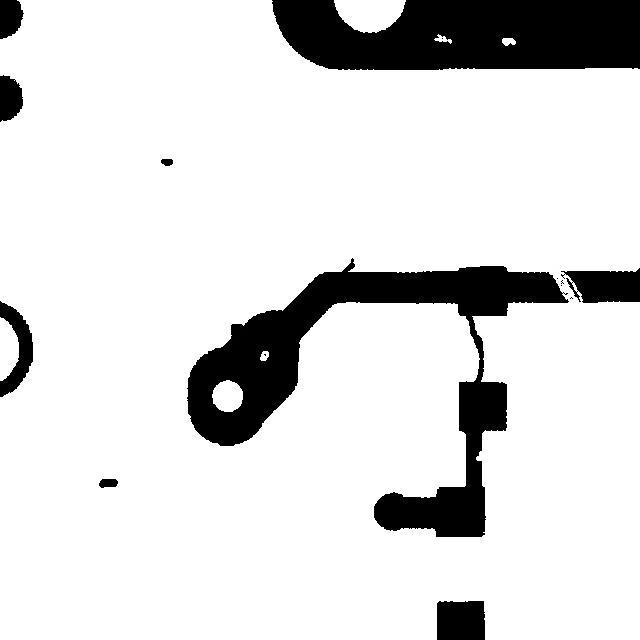copper: (89, 469, 127, 497), (151, 149, 182, 175)
mousebite: (466, 441, 493, 470)
open: (539, 259, 592, 316)
pin-hole: (424, 24, 461, 53), (492, 28, 525, 55), (250, 341, 278, 370)
short: (454, 300, 493, 396)
spur: (331, 248, 364, 283), (221, 314, 253, 350)
